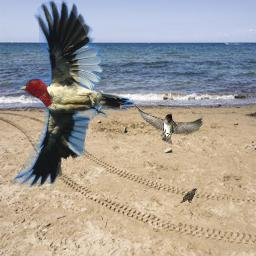Crow: (179, 188, 197, 204)
Swallow: (132, 102, 204, 145)
Woodpecker: (14, 0, 135, 188)
